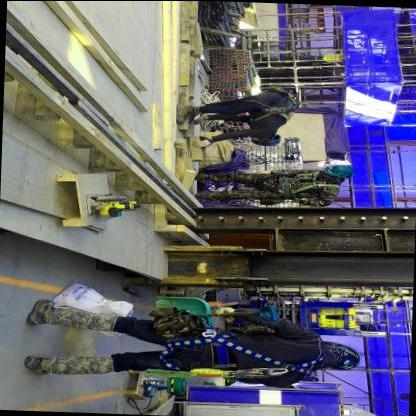safety-shoe: (20, 291, 70, 332), (17, 353, 69, 381)
